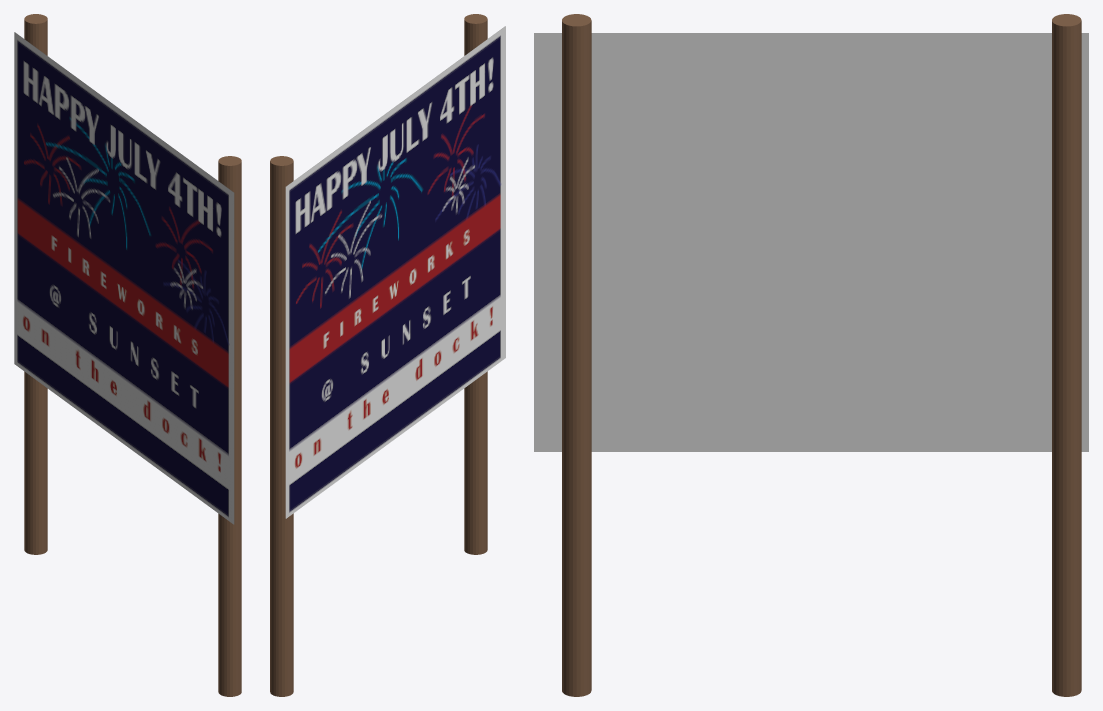
The model's file is SignPost.fbx.
3 views of the same model, side by side, from view 1: azimuth 30°, elevation 25°; view 2: azimuth 150°, elevation 25°; view 3: azimuth 270°, elevation 25° (orthographic). The views are drawn at different scales.
Parts seen in each view (by area): view 1: Plane.001, Cylinder.001, Cylinder, Plane; view 2: Plane.001, Cylinder, Cylinder.001, Plane; view 3: Plane, Cylinder, Cylinder.001.
Part boxes in pixels (x1,y1,x2,y2): Plane.001: (14,32,233,524); Cylinder.001: (218,156,241,696); Cylinder: (24,14,47,554); Plane: (14,32,234,524); Plane.001: (286,26,505,518); Cylinder: (270,156,293,696); Cylinder.001: (464,14,487,554); Plane: (285,26,504,518); Plane: (534,33,1088,451); Cylinder: (1052,14,1081,696); Cylinder.001: (562,14,591,696).
Bounding box in the file's own units: 36.59 × 800 × 600.
Materials: 3 (1 with a texture image).
